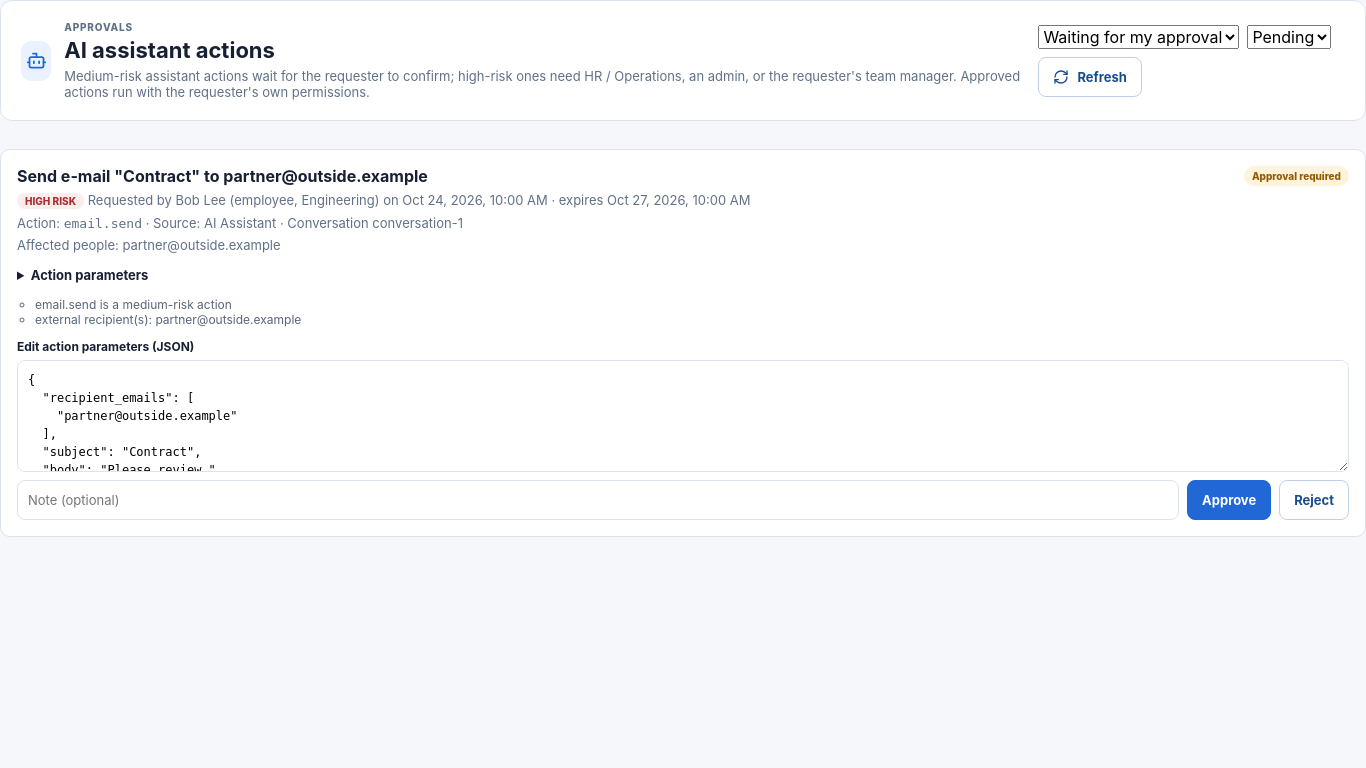
AgentApprovalsSection › explains a failed run after approval
Click the button "Approve" at (1229,500), box [1187,480,1271,520]
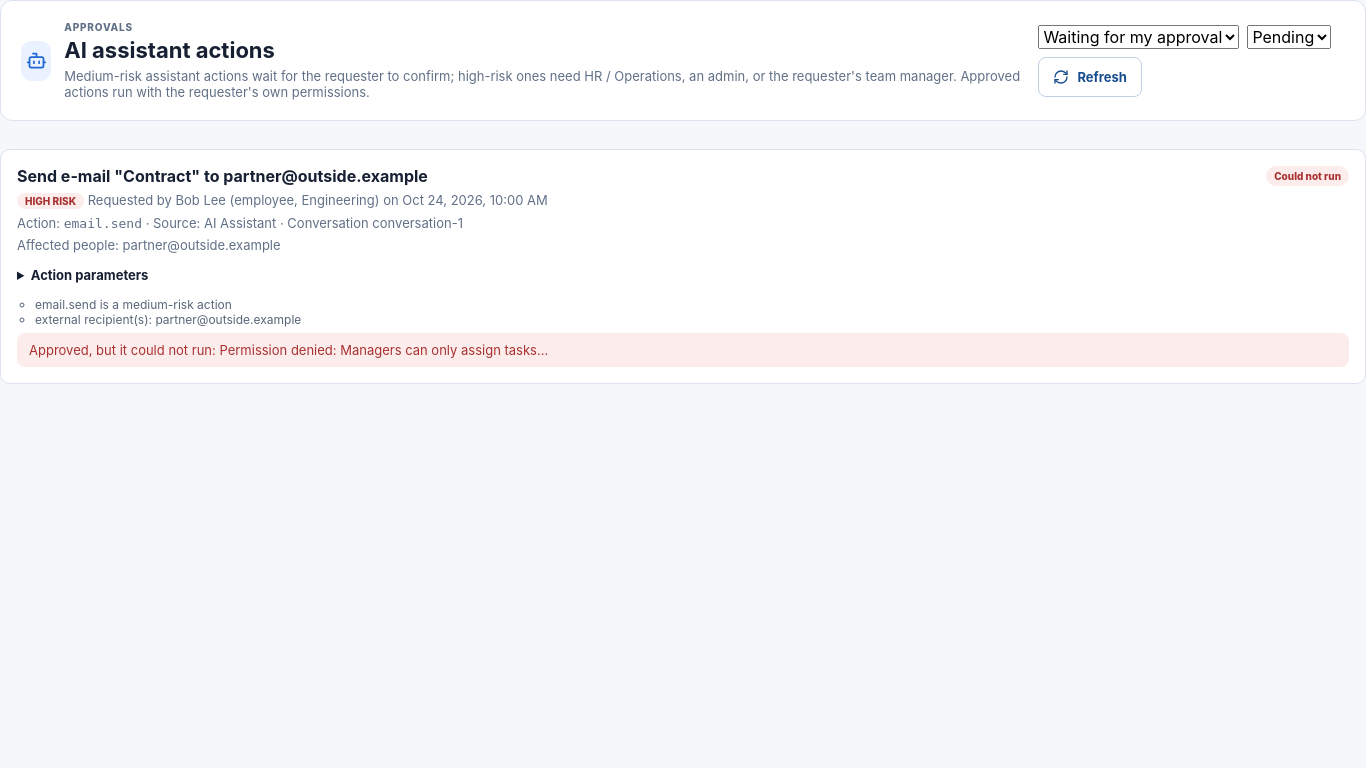
Expected: the message shows "could not run", [29,342,548,358]
